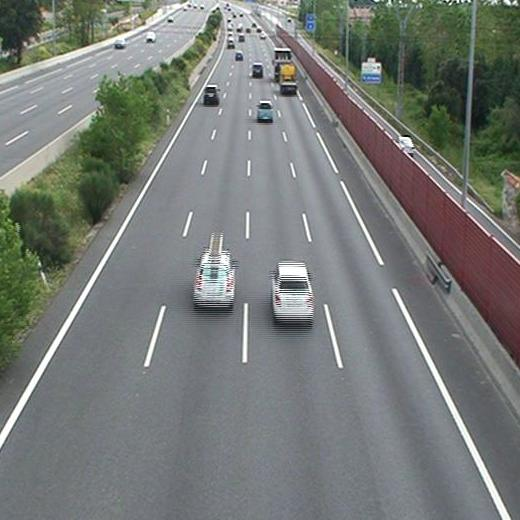car: (271, 263, 315, 319), (193, 251, 234, 304), (258, 102, 274, 119), (203, 85, 219, 101), (253, 63, 264, 75), (234, 52, 244, 61), (226, 40, 234, 47)
small-truck: (273, 49, 292, 77), (279, 65, 297, 92)
